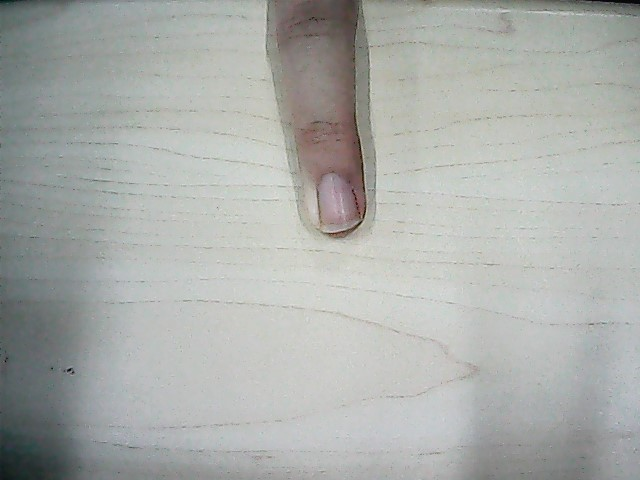nail: (318, 170, 361, 233)
